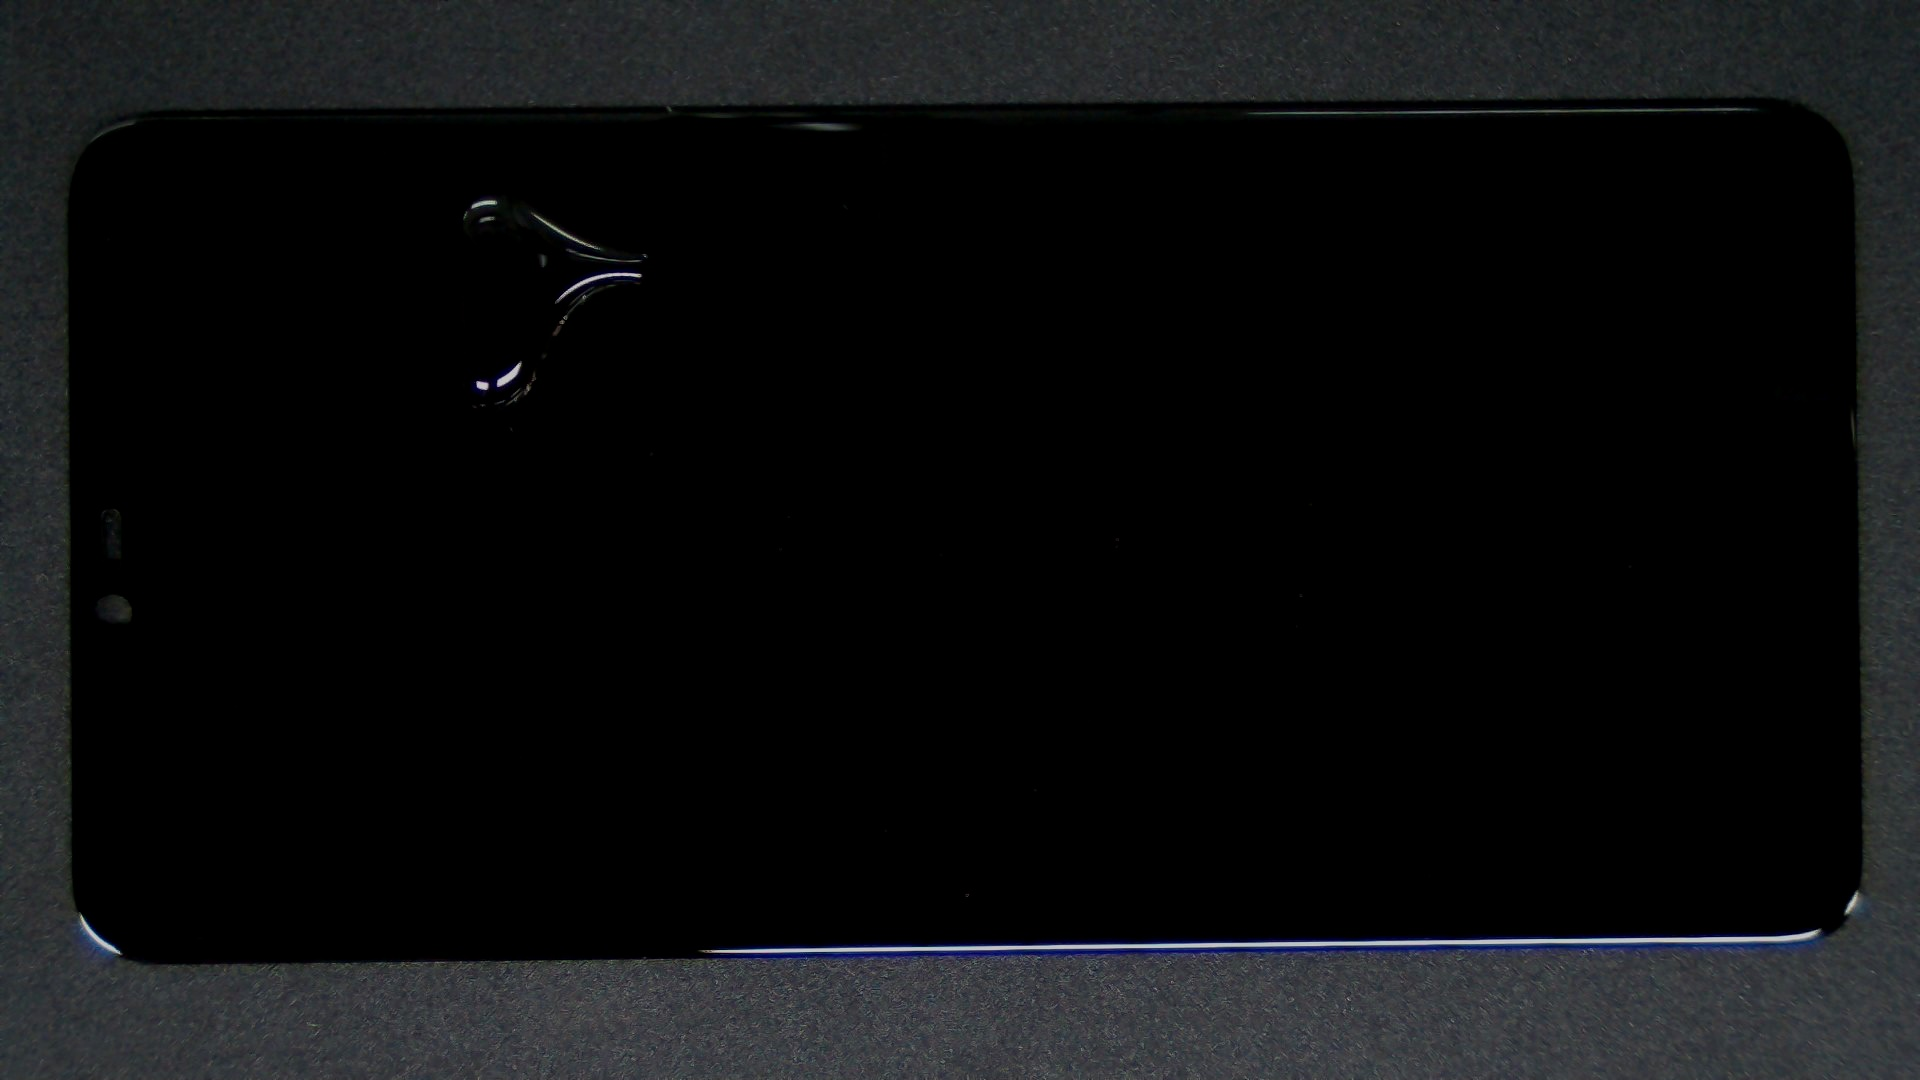oil: (251, 95, 748, 289)
